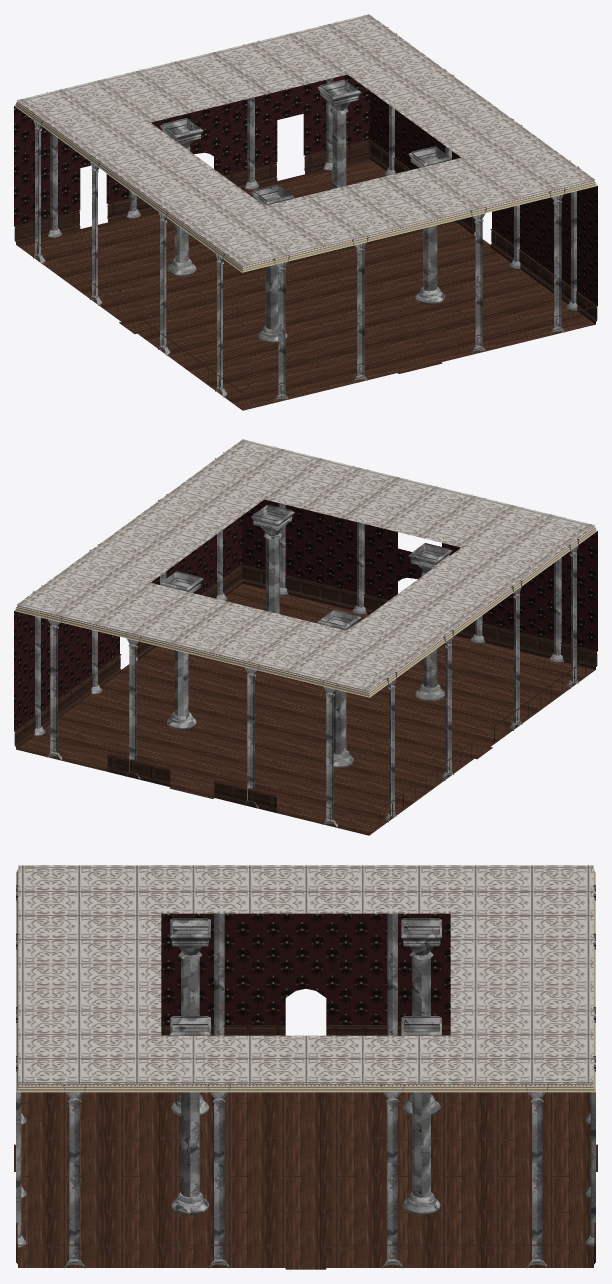
File: Parlor_Room_FINAL.fbx
3 renders of one model, top to bottom at view 1: azimuth 30°, elevation 25°; view 2: azimuth 150°, elevation 25°; view 3: azimuth 270°, elevation 25°, orthographic. The views are drawn at different scales.
Parts seen in each view (by area): view 1: Parlor_Room; view 2: Parlor_Room; view 3: Parlor_Room.
Part boxes in pixels (bbox=[...]): Parlor_Room: bbox=[14, 14, 597, 410]; Parlor_Room: bbox=[14, 439, 597, 835]; Parlor_Room: bbox=[14, 865, 597, 1269].
Size of the model in its own units: 1807 by 696 by 2005.
